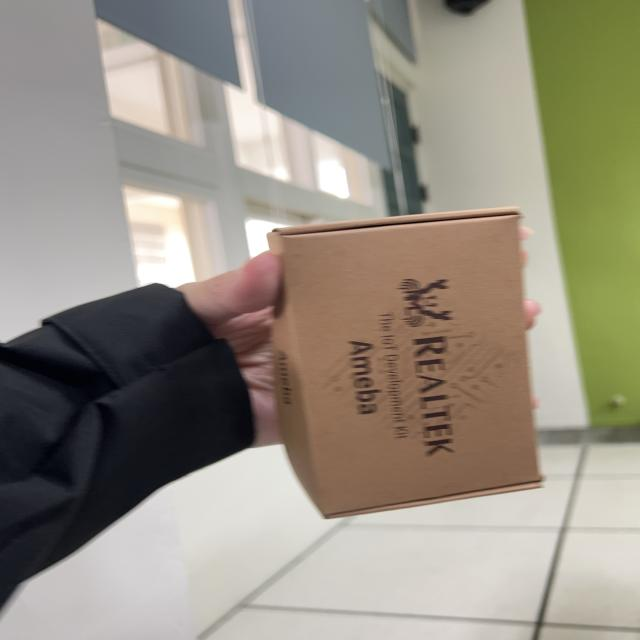box: (256, 197, 578, 528)
